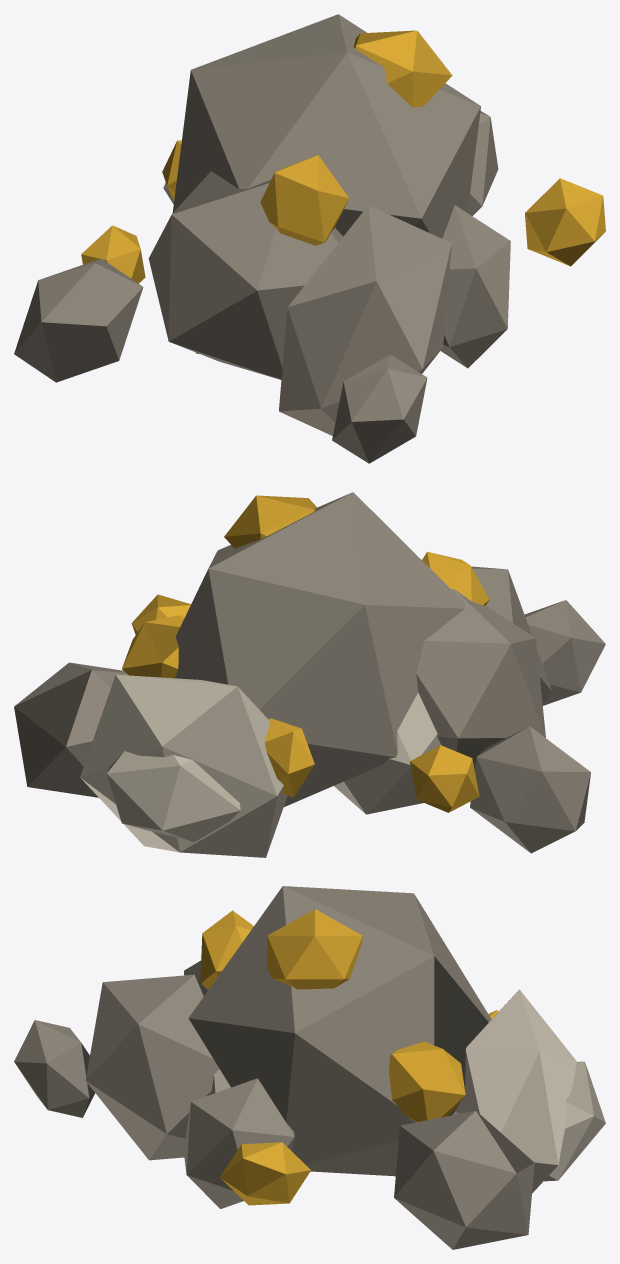
The model's file is resource_gold.glb.
The picture shows the model from 3 angles, top to bottom: view 1: azimuth 30°, elevation 25°; view 2: azimuth 150°, elevation 25°; view 3: azimuth 270°, elevation 25°; orthographic projection. The views are drawn at different scales.
Visible parts, largest first — view 1: resource_gold; view 2: resource_gold; view 3: resource_gold.
Part boxes in pixels (x1=…): resource_gold: x1=14, y1=14, x2=605, y2=463; resource_gold: x1=14, y1=492, x2=605, y2=857; resource_gold: x1=14, y1=886, x2=605, y2=1249.
Bounding box in the file's own units: 3.45 × 2.01 × 3.59.
